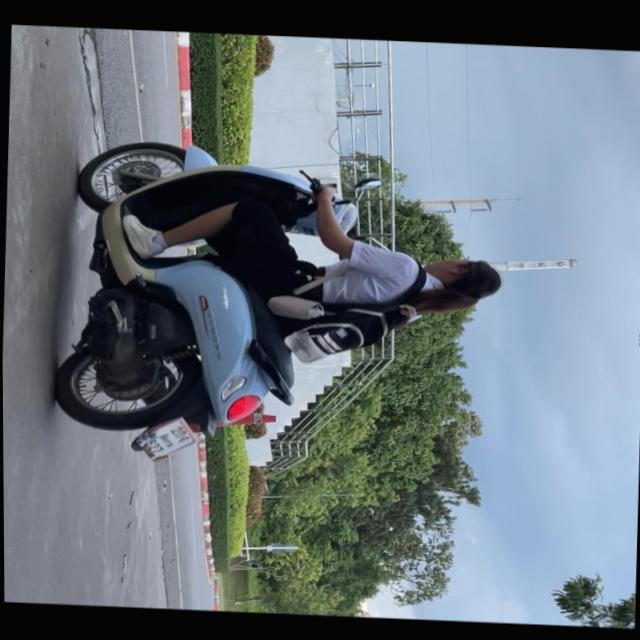seatbelt: (419, 252, 502, 306)
